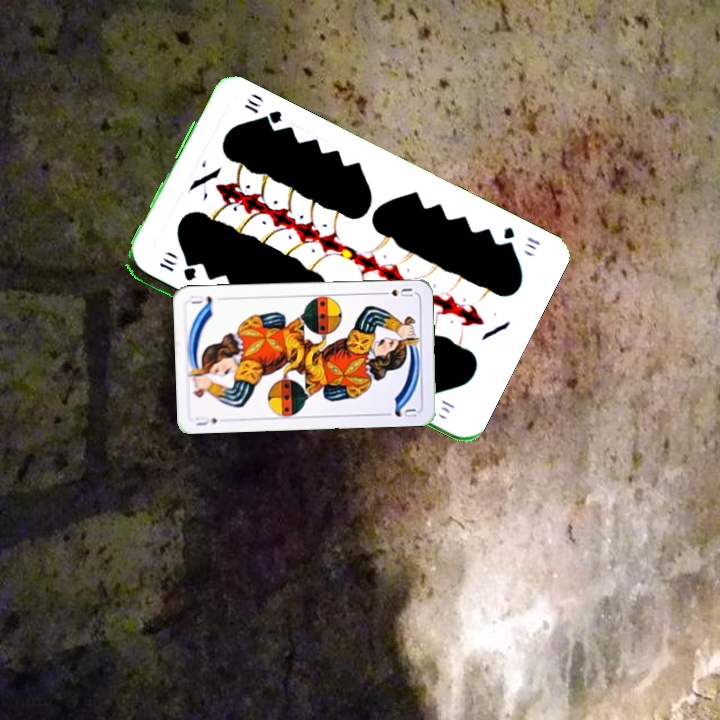G10: (498, 223, 543, 252), (155, 258, 199, 284)
SU: (376, 284, 416, 299), (192, 414, 220, 428)
